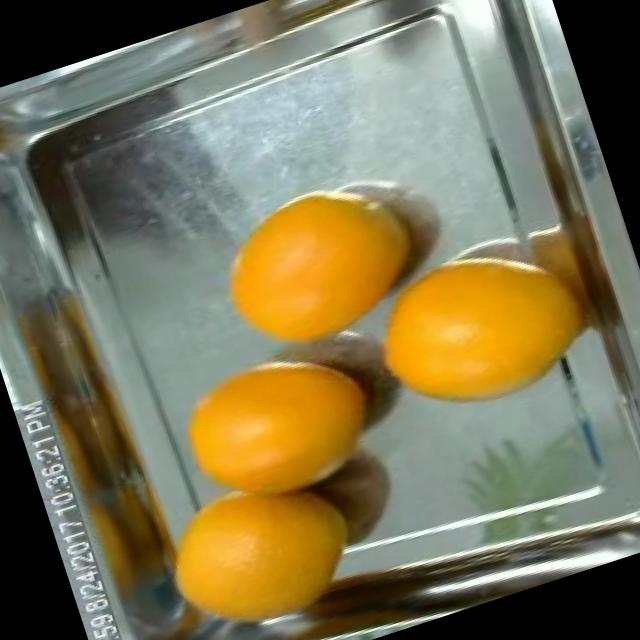Fruit: (153, 322, 397, 539), (348, 233, 586, 444)
